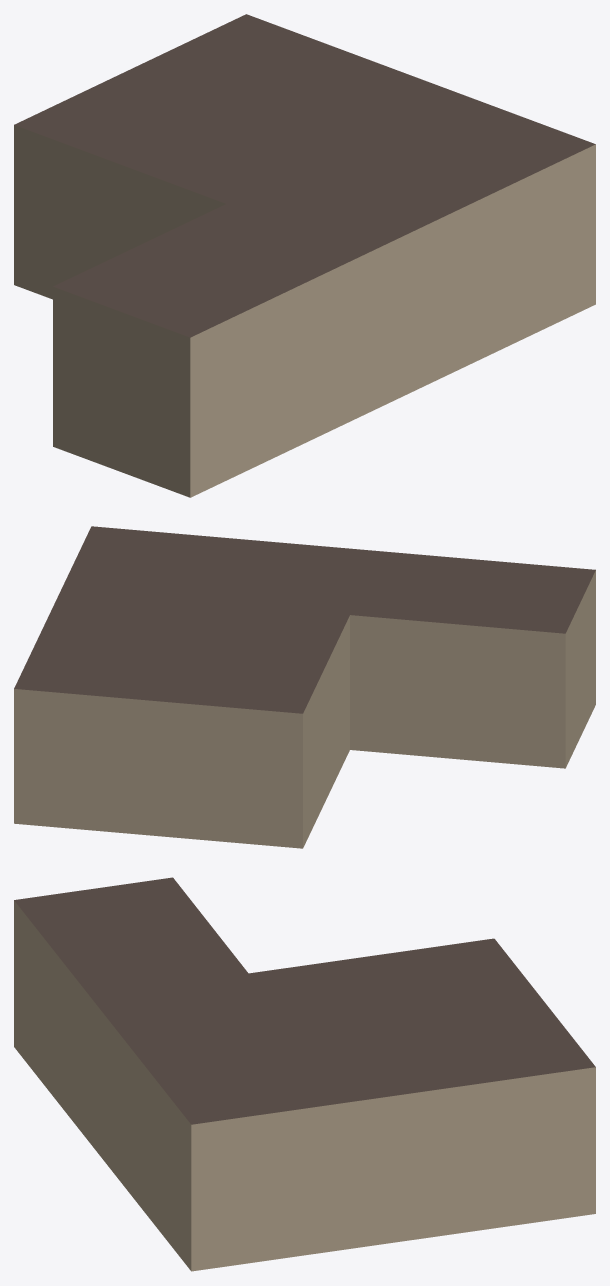
The picture shows the model from 3 angles, top to bottom: view 1: azimuth 30°, elevation 25°; view 2: azimuth 150°, elevation 25°; view 3: azimuth 270°, elevation 25°; orthographic projection. The views are drawn at different scales.
Parts seen in each view (by area): view 1: HP-w1286954636; view 2: HP-w1286954636; view 3: HP-w1286954636.
Part boxes in pixels (<box>): HP-w1286954636: <box>14,14,595,497</box>; HP-w1286954636: <box>14,526,595,848</box>; HP-w1286954636: <box>14,877,595,1271</box>.
Bounding box in the file's own units: 32.52 × 9 × 32.34.
